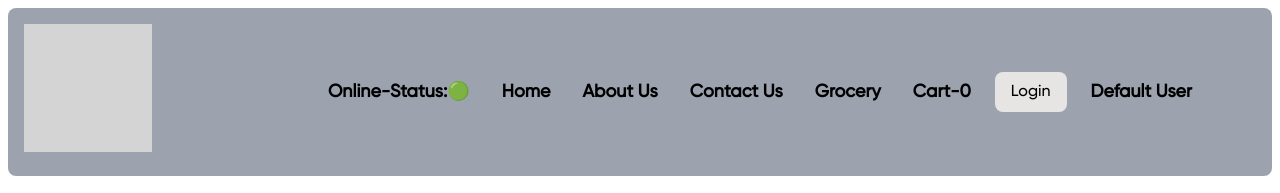
Test: testing header component › should render logout button on Click of login button
Click the button "Login": click(1031, 92) left=995, top=72, right=1067, bottom=112
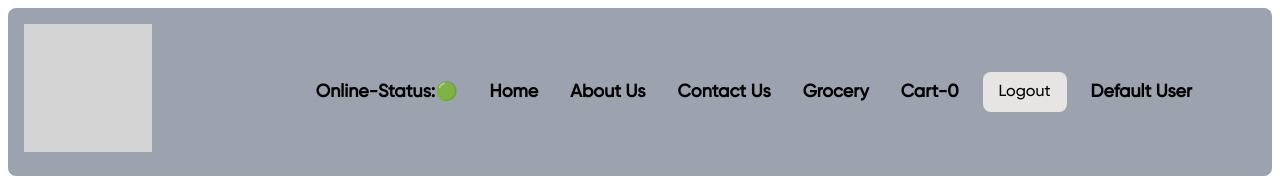
Expected: the button "Logout" is shown, left=983, top=72, right=1067, bottom=112
